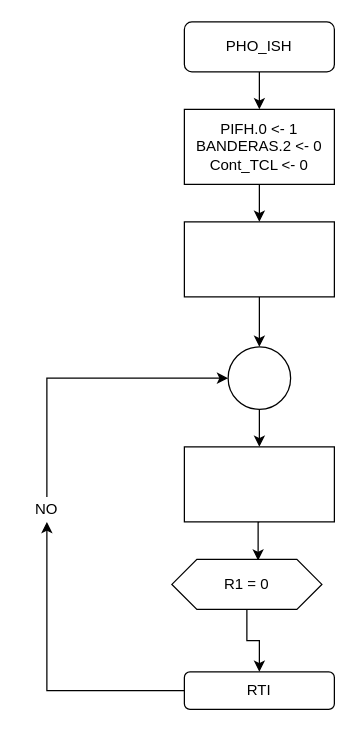
Image size: 356x731. Some labels were removed from this diagram. Each missing label, with the box of its shape:
J <- (Num_Array) R1 <- 6: (183, 221, 334, 297)
R1 <- (R1) -1 ((J) + (A)) <- $FF: (183, 446, 334, 522)
